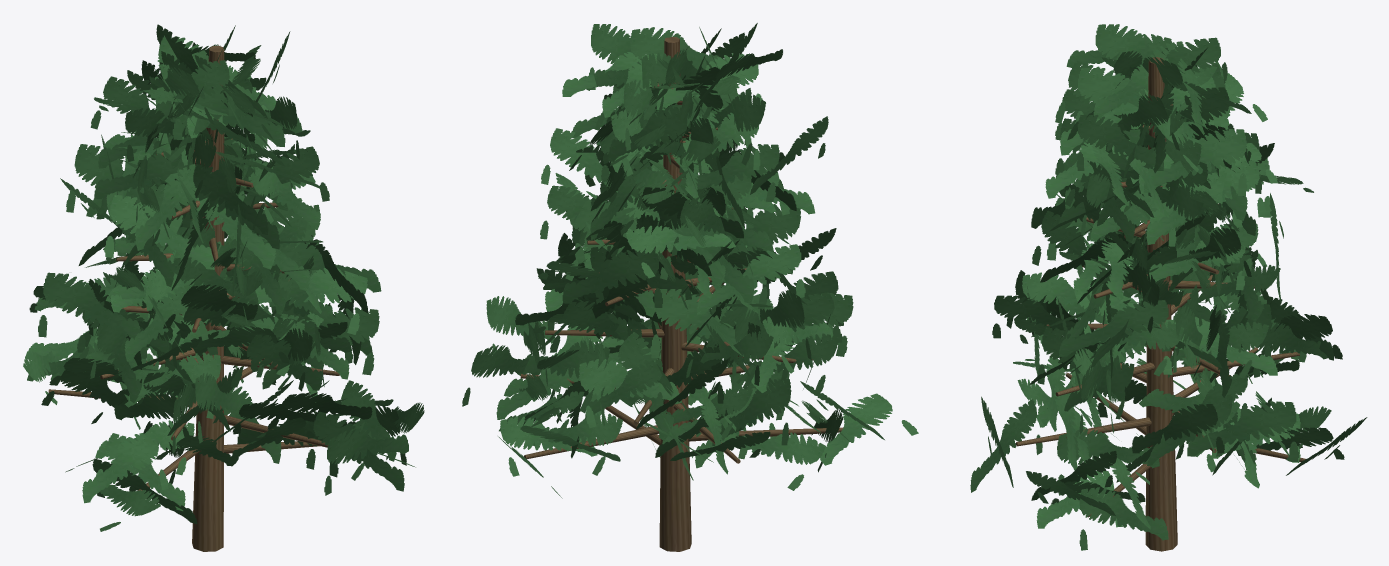
3 views of the same model, side by side, from view 1: azimuth 30°, elevation 25°; view 2: azimuth 150°, elevation 25°; view 3: azimuth 270°, elevation 25° (orthographic). The views are drawn at different scales.
Visible parts, largest first — view 1: pine-needle, pine-bark; view 2: pine-needle, pine-bark; view 3: pine-needle, pine-bark.
Part boxes in pixels (x1,y1,x2,y2): pine-needle: (23, 24, 424, 531); pine-bark: (48, 45, 339, 551); pine-needle: (462, 23, 918, 498); pine-bark: (520, 36, 843, 551); pine-needle: (970, 24, 1367, 550); pine-bark: (1016, 57, 1305, 551).
Size of the model in its own units: 7.72 by 10.24 by 7.74.
2 materials, 2 textured.
